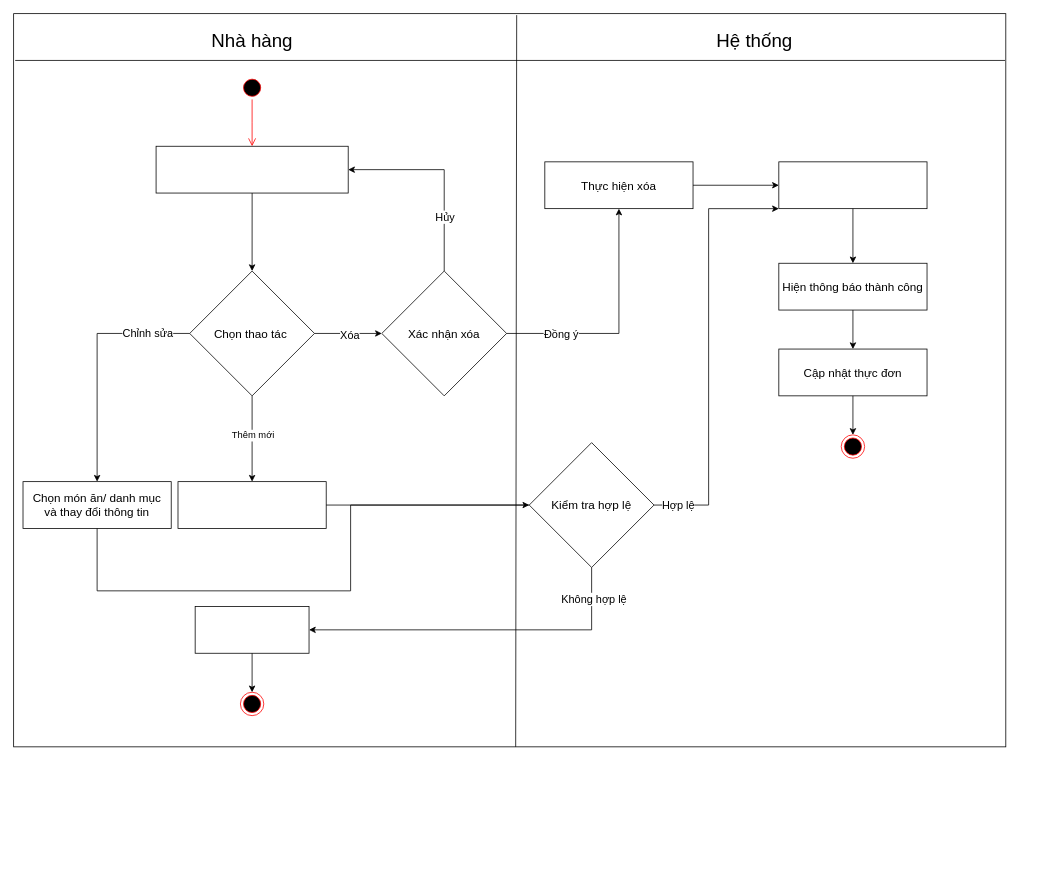
This 1047x893 diagram has some shape labels left out. Here are the shapes that lost their labels. From the top down, the centre of each, then its label:
(251,169): Truy cập trang quản lý thực đơn
(852,185): Lưu thay đổi vào CSDL
(251,504): Nhập thông tin mới, tên, mô tả, giá, ảnh,...
(251,629): Hiện thông báo lỗi
